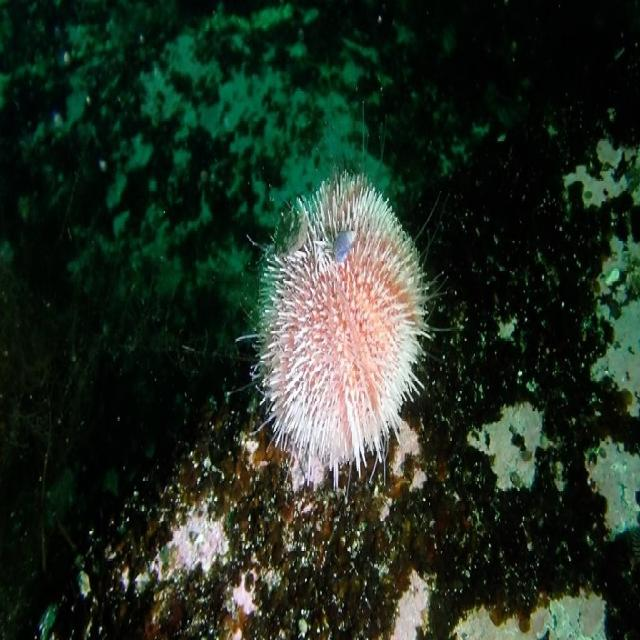Deniz Kestanesi: (226, 96, 460, 491)
